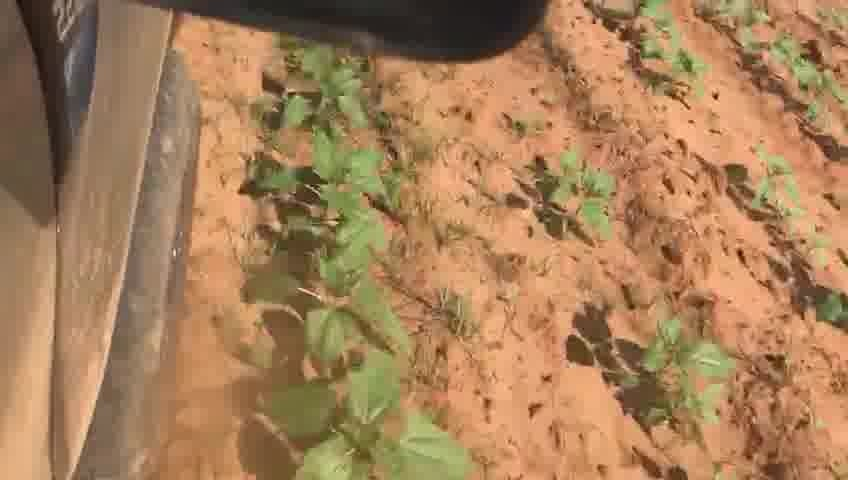sunflower: (243, 343, 477, 475), (240, 233, 414, 363), (572, 312, 735, 431), (243, 131, 393, 236), (253, 41, 379, 136), (518, 153, 620, 246), (626, 29, 717, 108), (728, 136, 797, 221), (776, 58, 836, 133)
